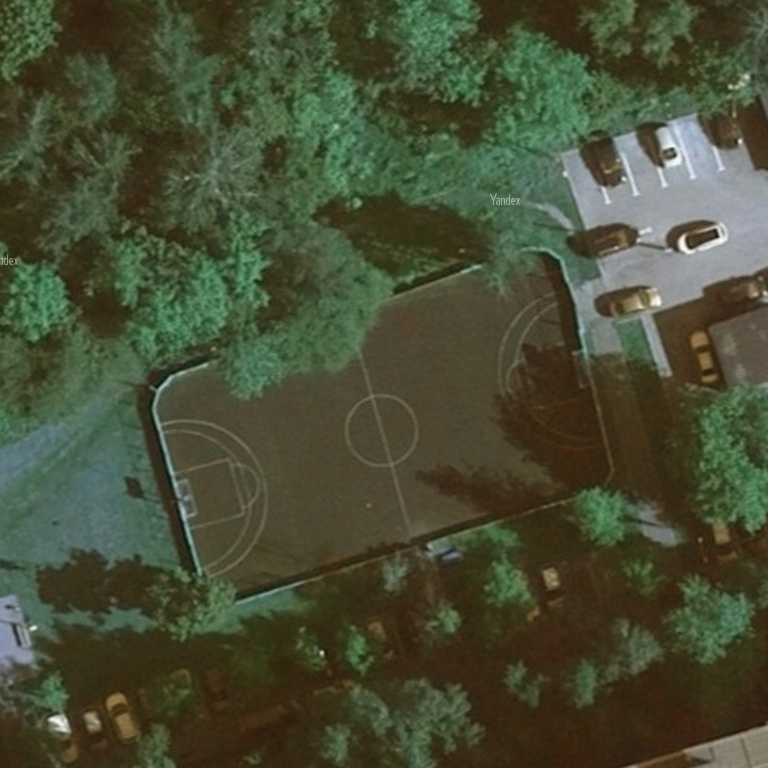basket_court: (130, 233, 626, 625)
